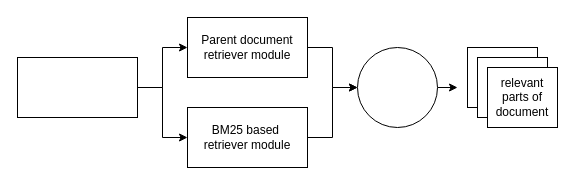
The diagram is 575 pixels wide and 185 high, and some of its shapes have lost their labels. Each missing label, with the centre of its shape:
"Document" goes at point 77,87.
"Ensemble" goes at point 397,87.
